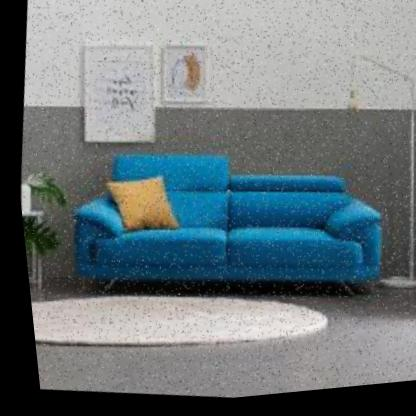Sofa: (36, 108, 411, 360)
